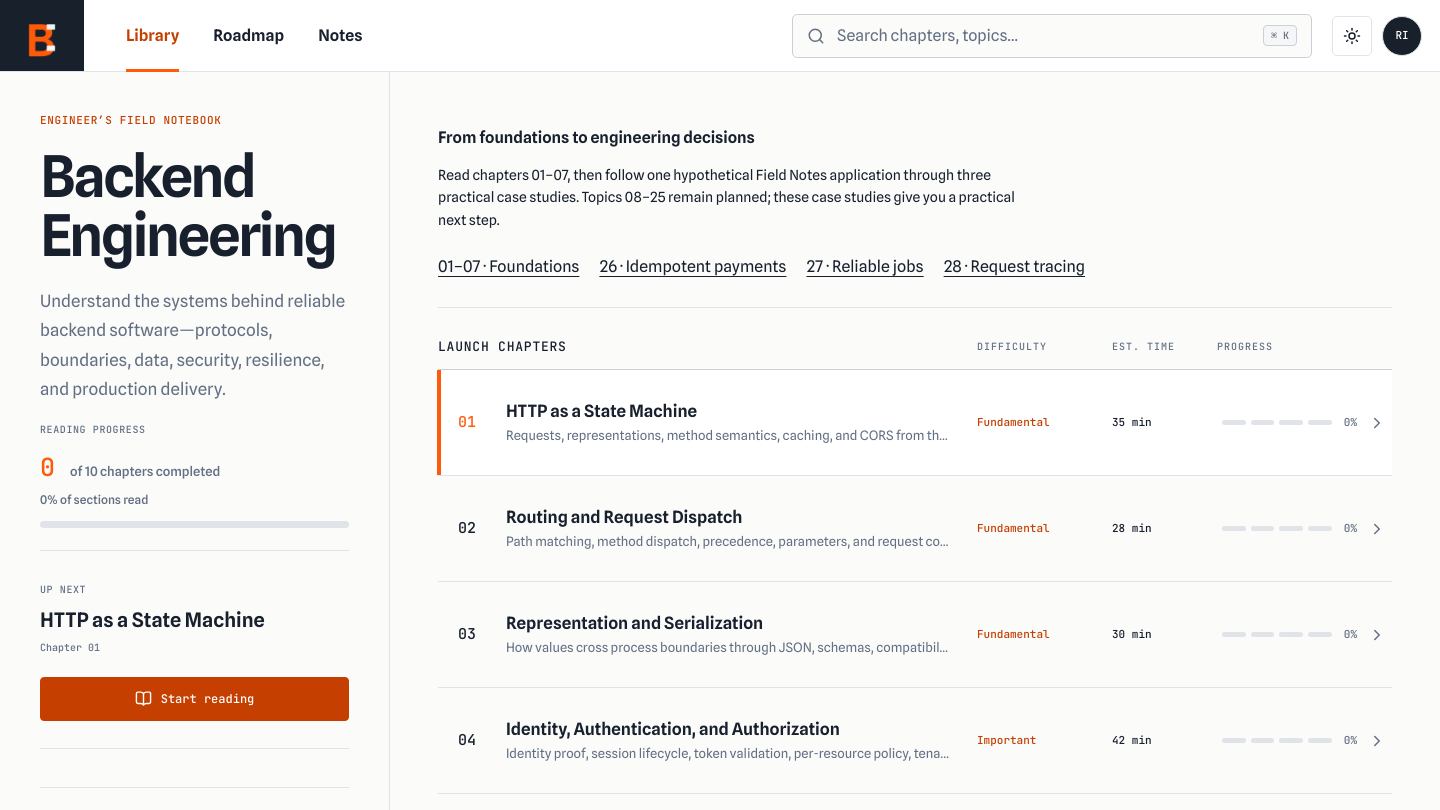
Test case: Backend Engineering prototype › keeps Notes keyboard focus inside and restores its opener
Click the button with aria-label "Open study notes".
click(340, 36)  # box [318, 0, 363, 71]
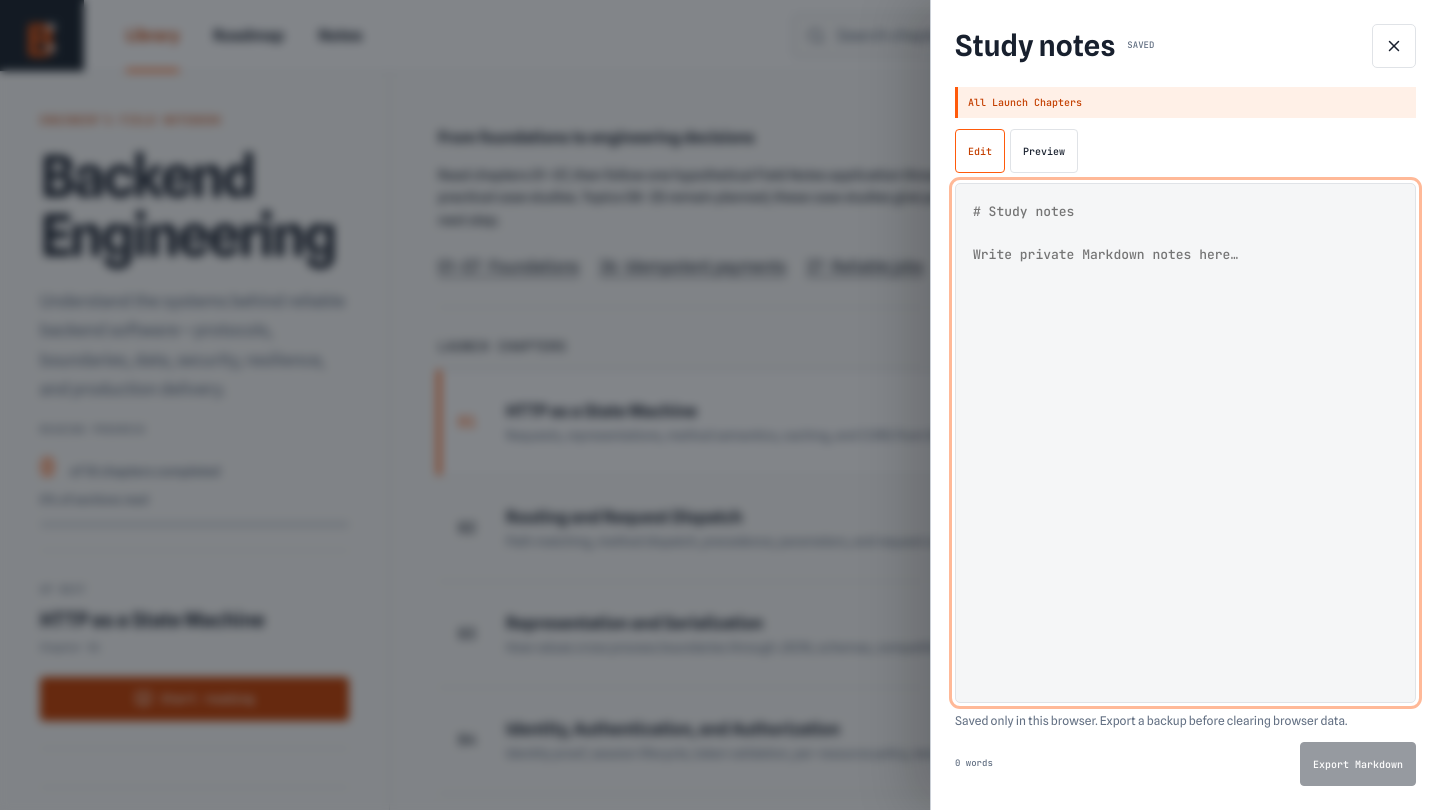
Press Tab
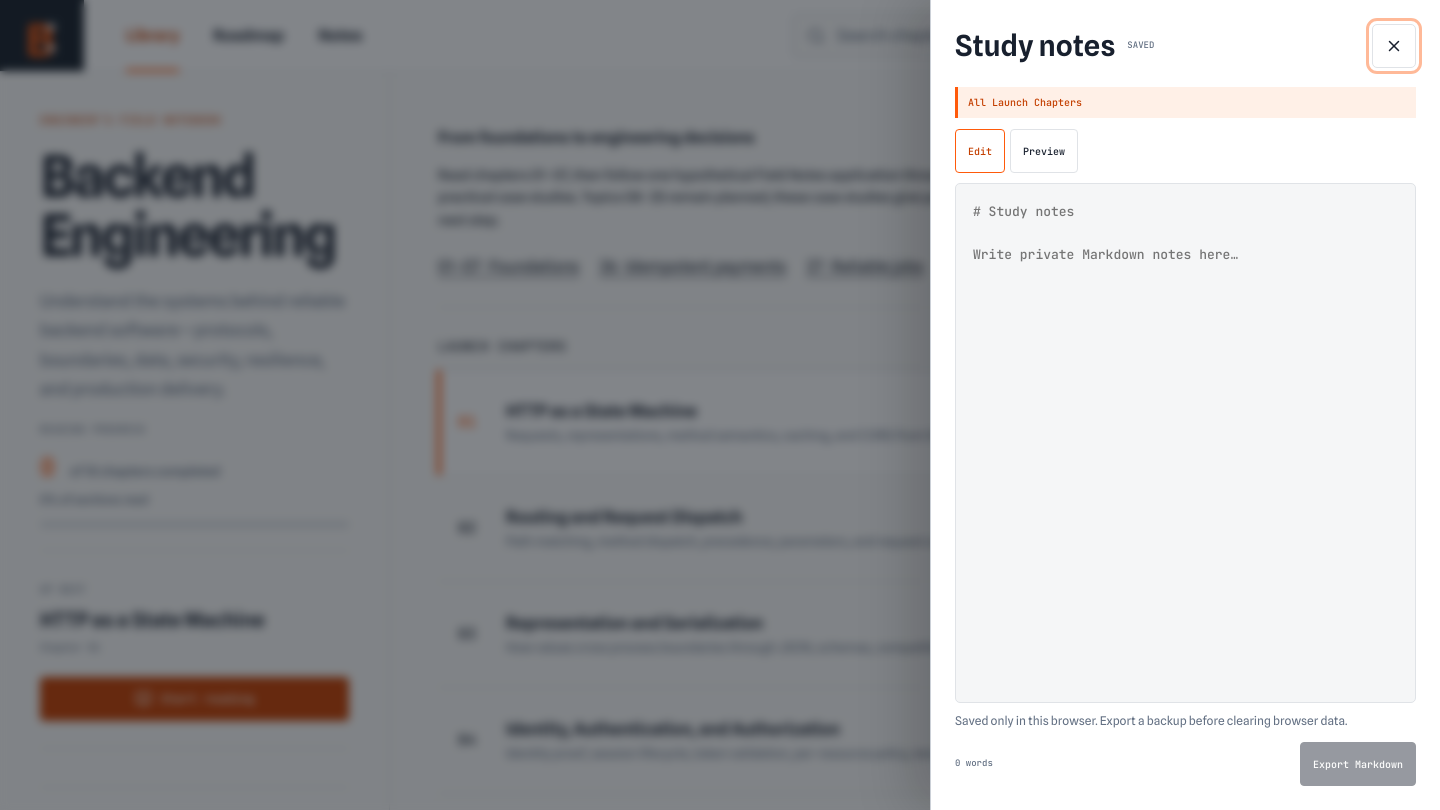
Press Shift+Tab
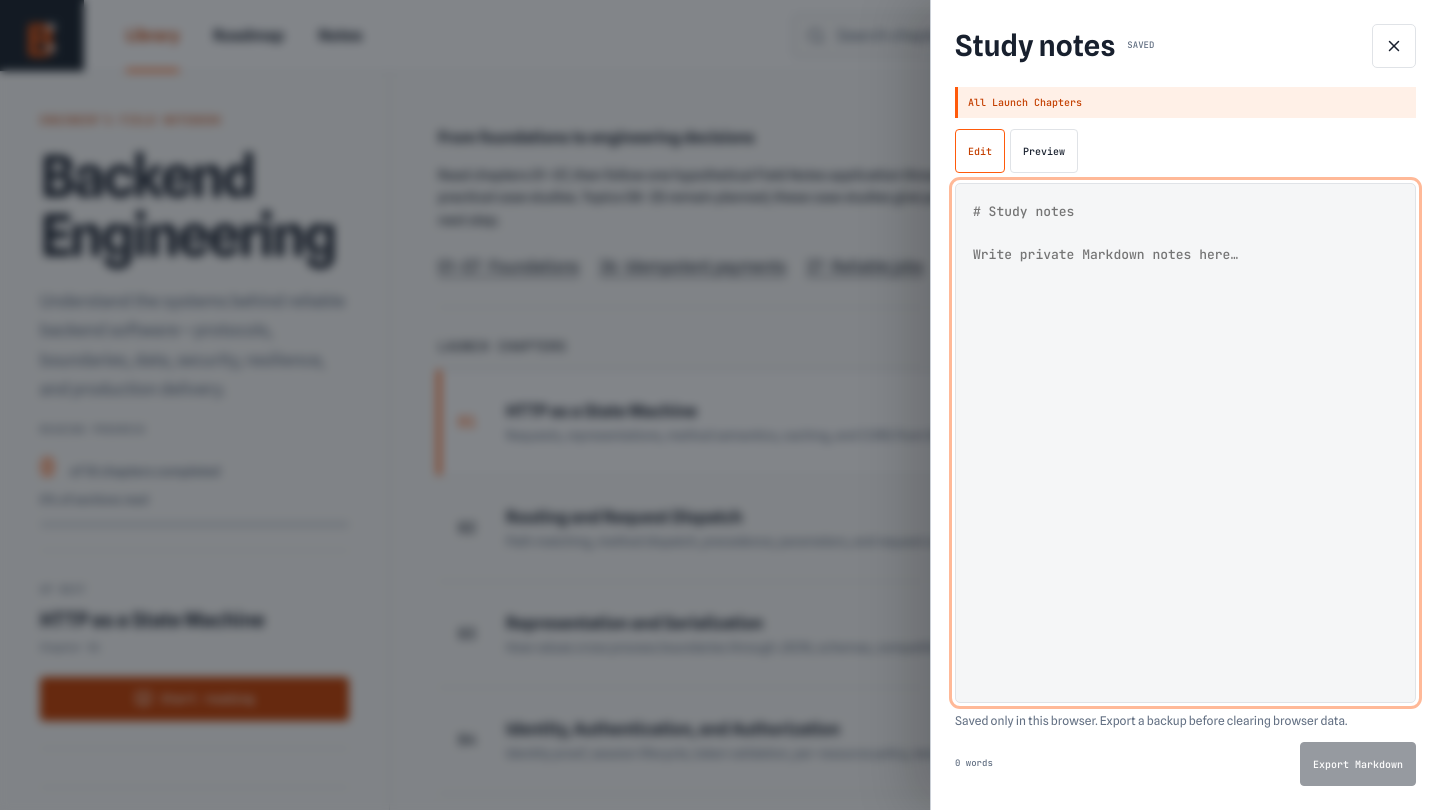
Press Escape
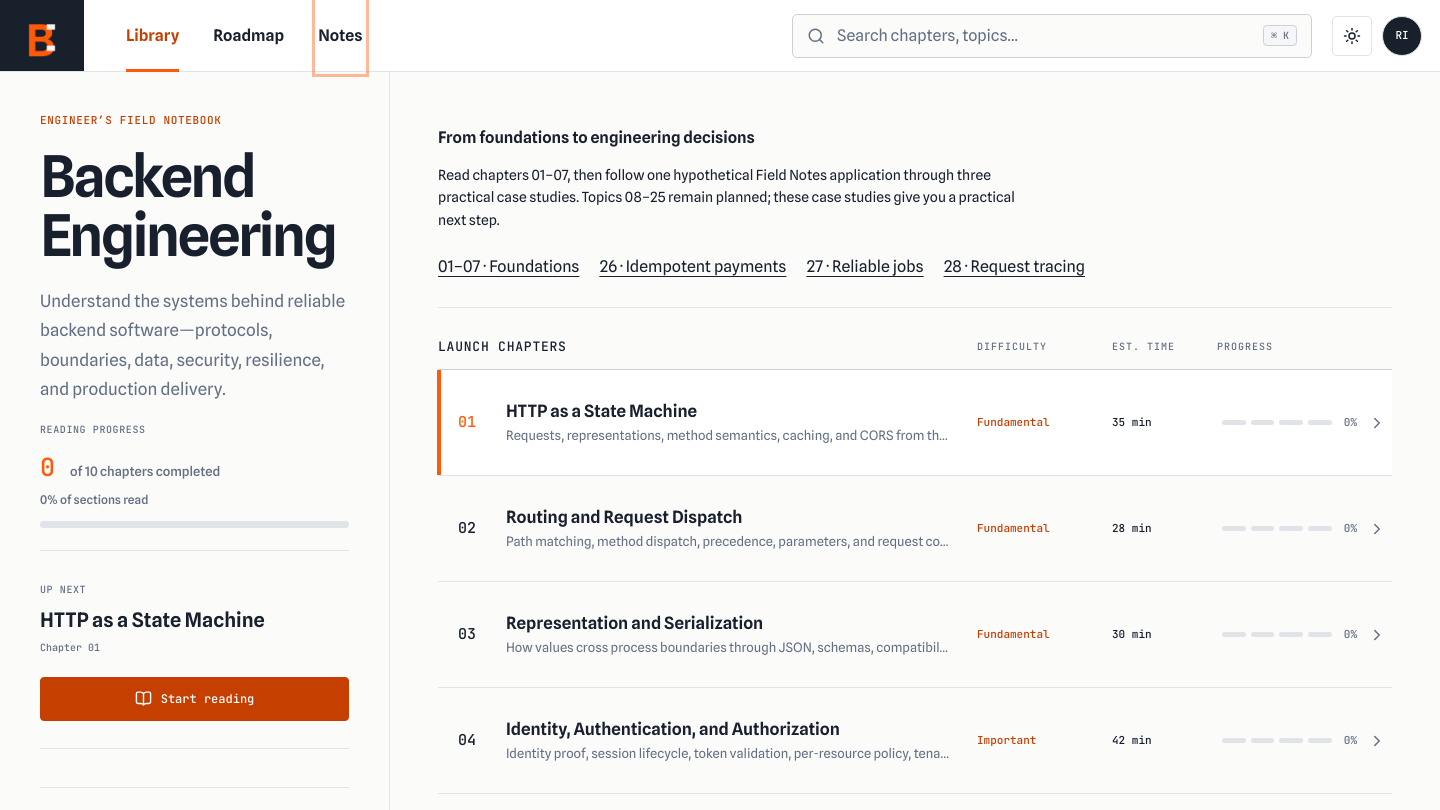
expect the dialog is gone: met
